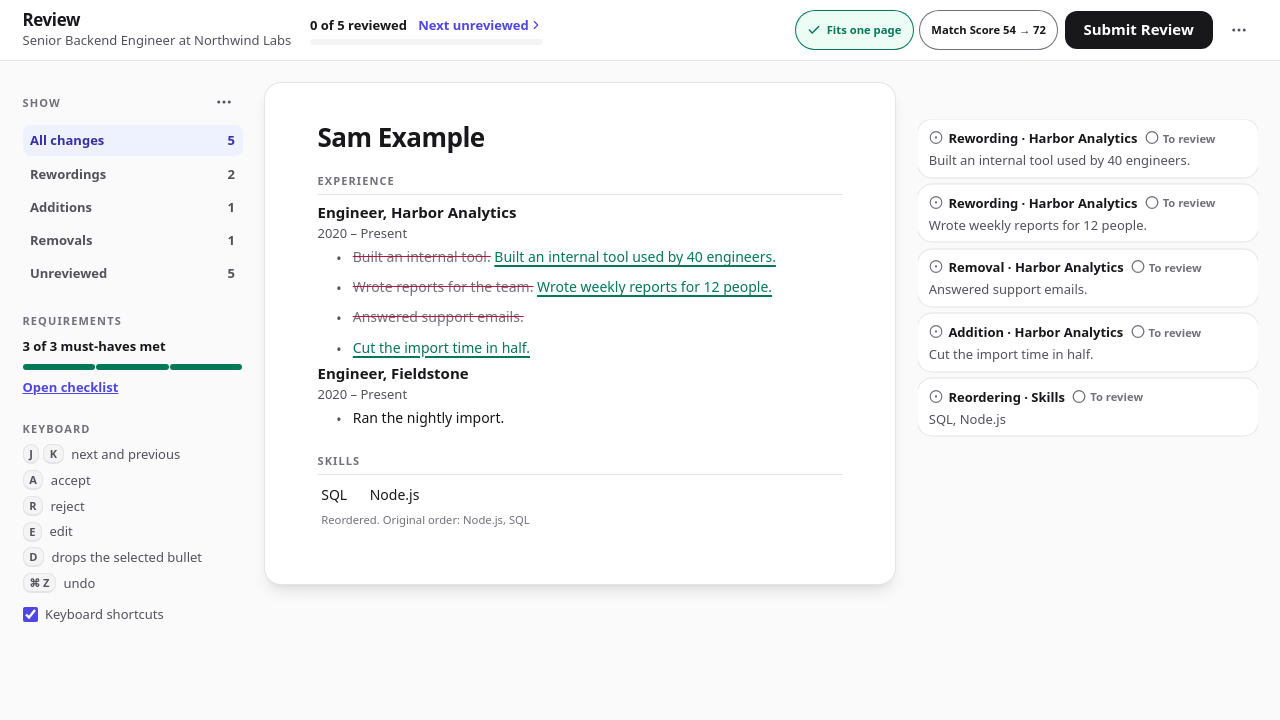
Test: Review screen: top bar and page together › opens the checklist drawer from the rail
The image size is (1280, 720).
Step 1. Click the button "Open checklist" → (70, 387), box [22,377,118,397]
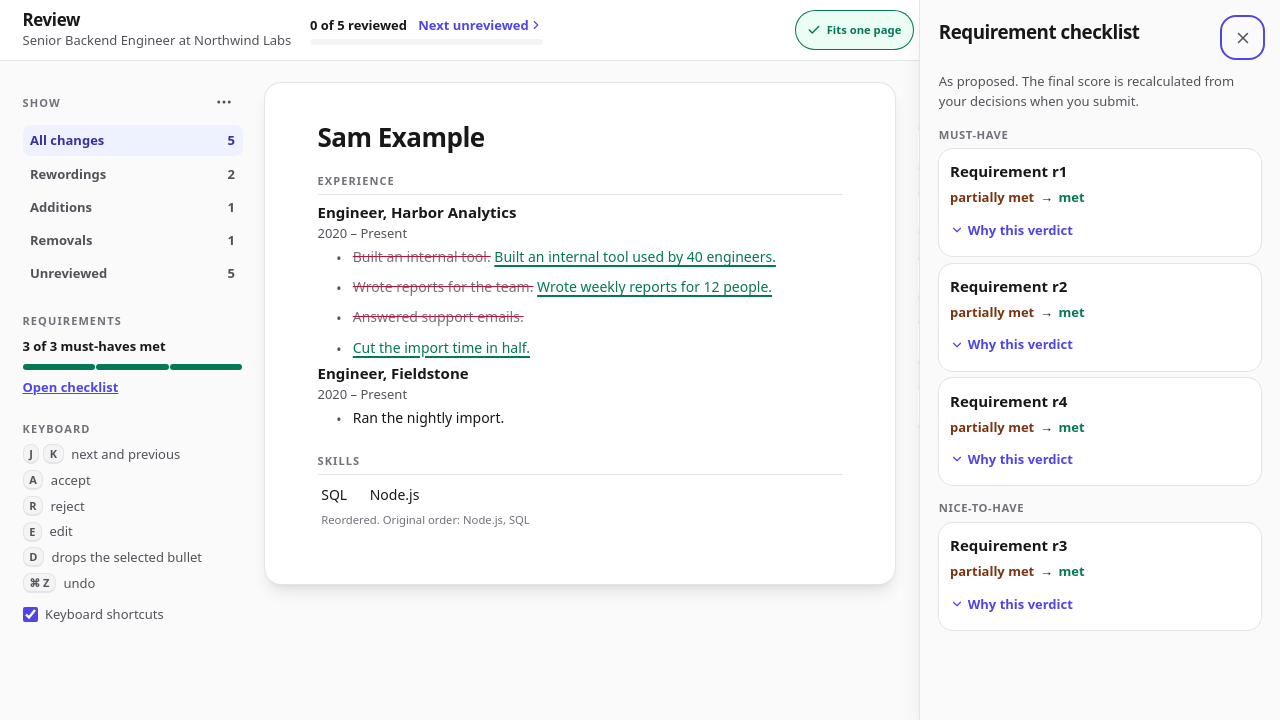
Check: the dialog "checklist" is shown, box [920,0,1279,719]
